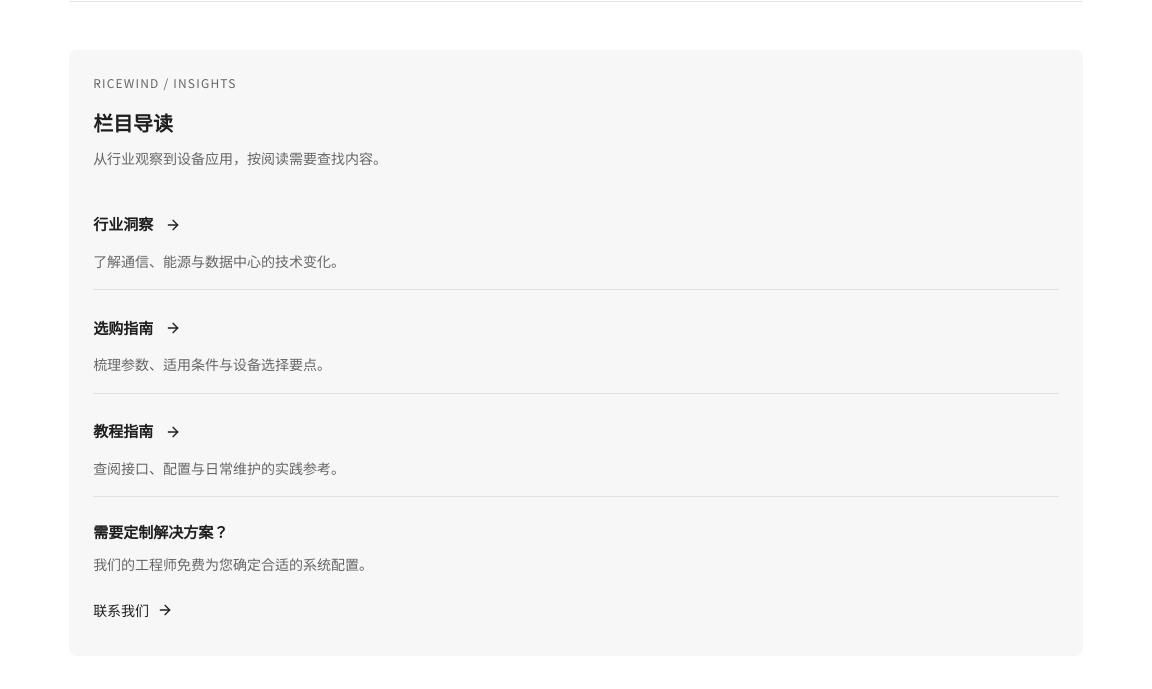
Test case: NewsCategoryFeed › keeps every requested category available and provides a recoverable empty state
(page scrolled)
Click the button "教程指南" at (137, 432), box x1=93 y1=410 x2=181 y2=454
(page scrolled)
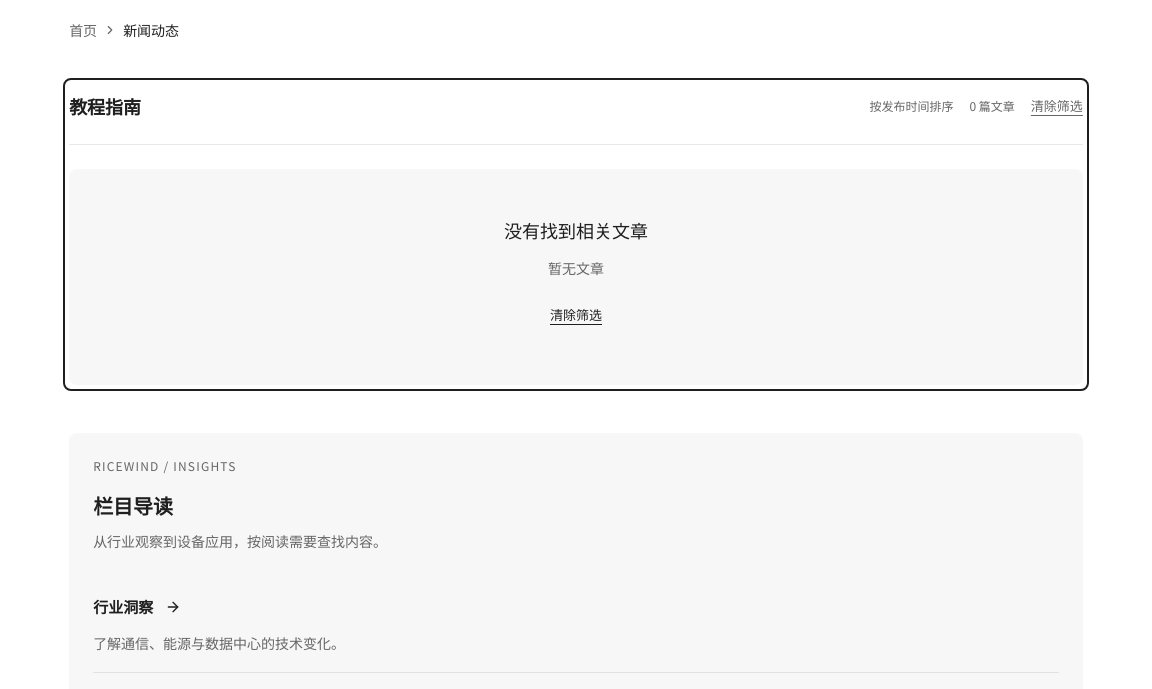
Result: the text "暂无文章" is shown at x1=548 y1=256 x2=604 y2=280
Click the button "清除筛选" next to "0 篇文章" at (1057, 106), box x1=1031 y1=84 x2=1083 y2=128
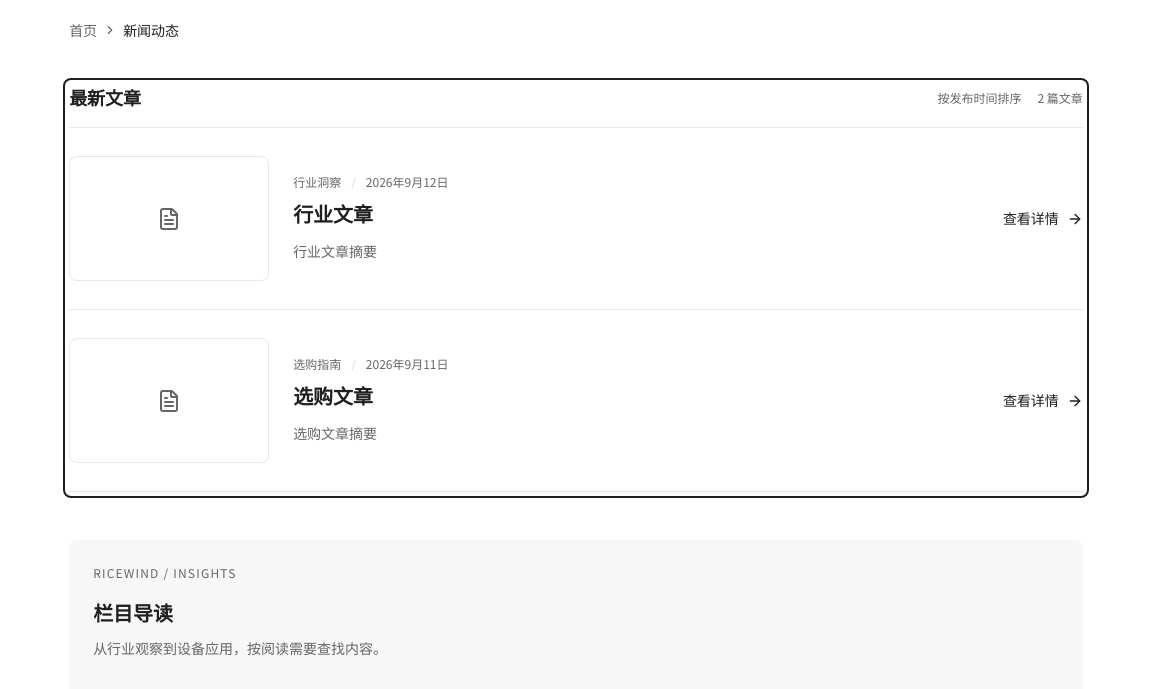
Result: the heading "最新文章" is shown at x1=69 y1=84 x2=141 y2=111
Result: the message reads "2 篇文章" at x1=1038 y1=88 x2=1083 y2=106
